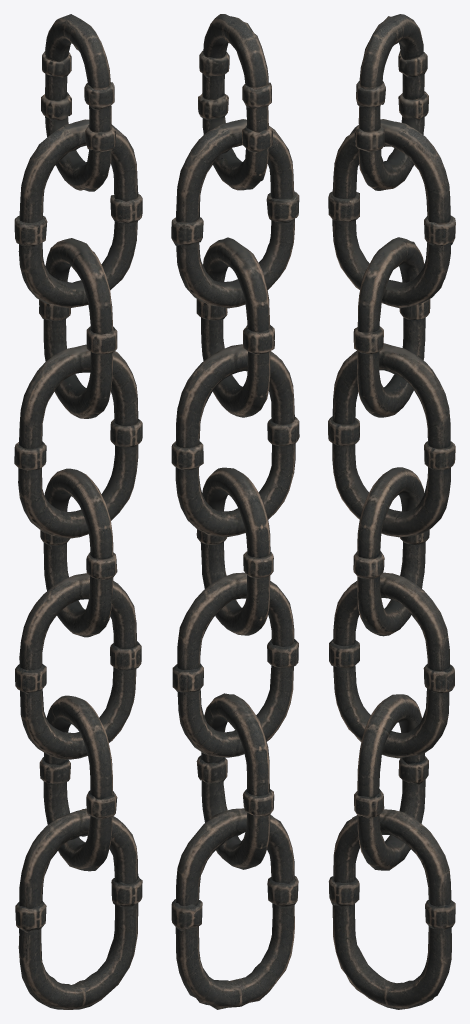
Rendered from Meshy_AI_Iron_Chain_0927192851_texture.fbx.
3 views of the same model, side by side, from view 1: azimuth 30°, elevation 25°; view 2: azimuth 210°, elevation 25°; view 3: azimuth 330°, elevation 25° (orthographic).
Parts seen in each view (by area): view 1: Mesh_0; view 2: Mesh_0; view 3: Mesh_0.
Boxes of the visible parts, box(x1,y1,x2,y2) form: Mesh_0: box(14, 14, 142, 1009); Mesh_0: box(171, 14, 299, 1009); Mesh_0: box(328, 14, 455, 1009).
Bounding box in the file's own units: 13.18 × 100 × 11.52.
Materials: 1 (1 with a texture image).
